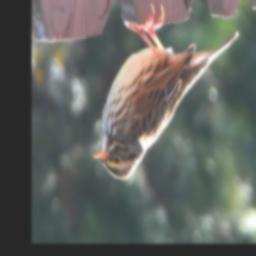Sparrow: (90, 6, 239, 184)
